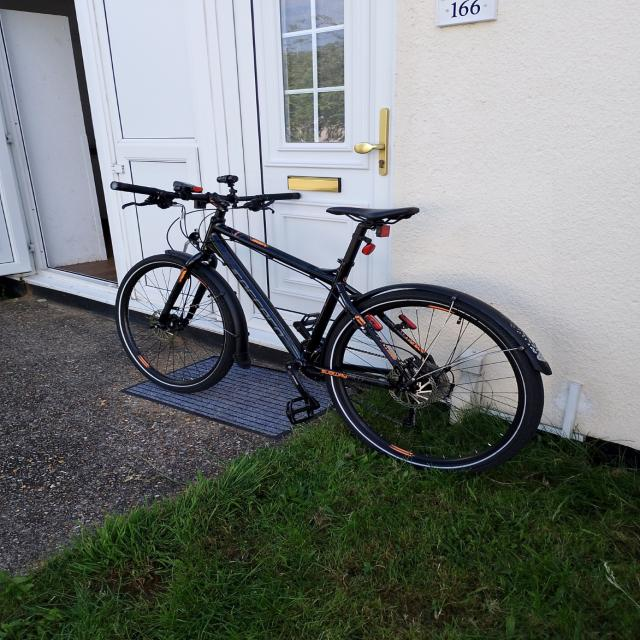bicycle: (109, 174, 552, 473)
